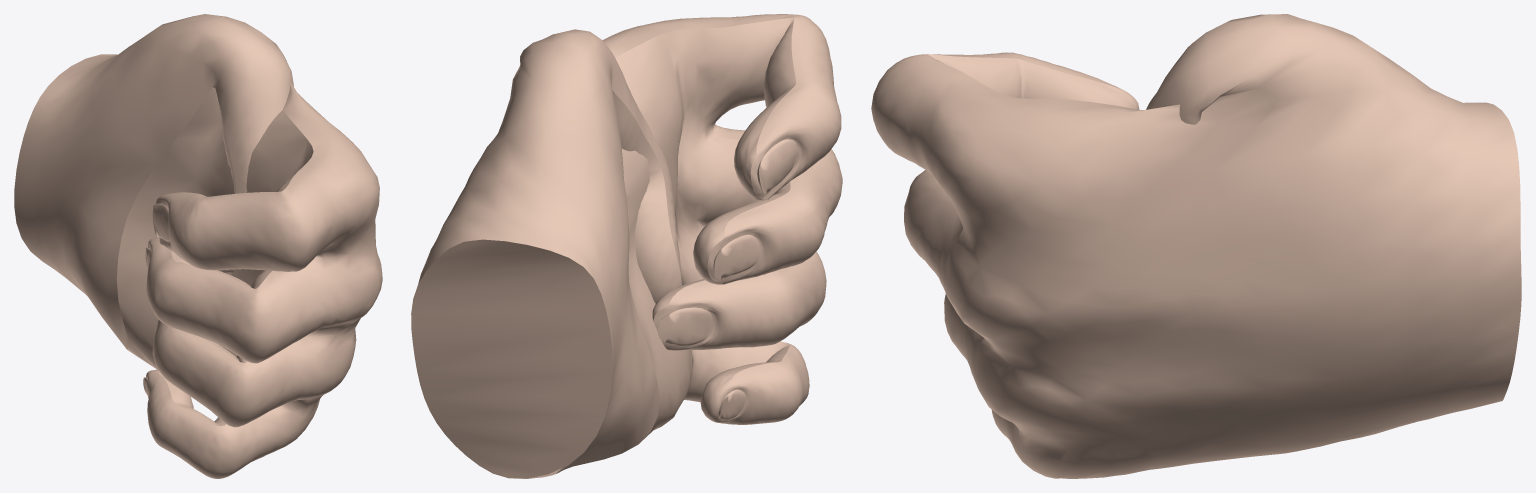
Rendered from hand-grip-l.glb.
3 views of the same model, side by side, from view 1: azimuth 30°, elevation 25°; view 2: azimuth 150°, elevation 25°; view 3: azimuth 270°, elevation 25° (orthographic). The views are drawn at different scales.
Visible parts, largest first — view 1: mesh_Hand_Nails_L; view 2: mesh_Hand_Nails_L; view 3: mesh_Hand_Nails_L.
Boxes of the visible parts, x1,y1,x2,y2 form: mesh_Hand_Nails_L: (14,14,382,478); mesh_Hand_Nails_L: (411,14,842,478); mesh_Hand_Nails_L: (871,14,1521,478).
Size of the model in its own units: 0.0677 by 0.1098 by 0.1355.
